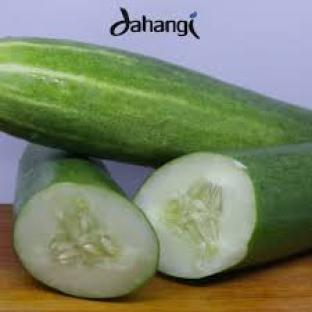Cucumber: (0, 39, 311, 165), (135, 145, 311, 278), (14, 146, 158, 298)
